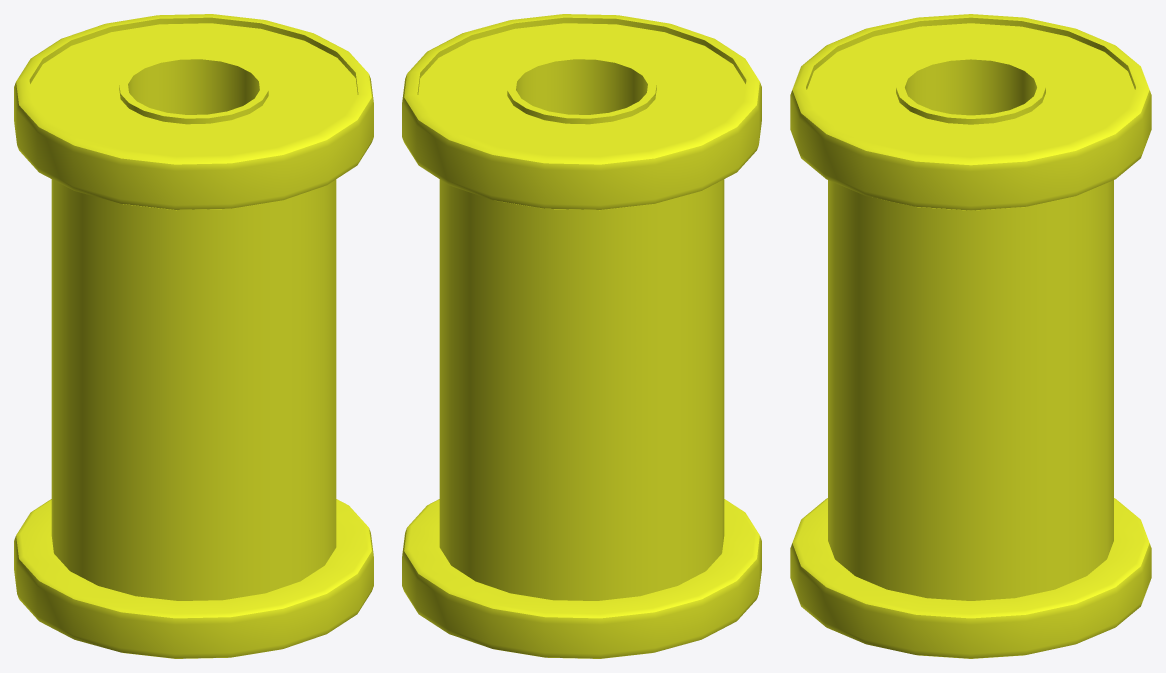
File: BobbinModel.glb
3 views of the same model, side by side, from view 1: azimuth 30°, elevation 25°; view 2: azimuth 150°, elevation 25°; view 3: azimuth 270°, elevation 25° (orthographic).
Visible parts, largest first — view 1: ito; view 2: ito; view 3: ito.
Boxes of the visible parts, bbox=[...] form: ito: bbox=[14, 14, 373, 658]; ito: bbox=[402, 14, 761, 658]; ito: bbox=[790, 14, 1151, 658].
Size of the model in its own units: 1.89 by 2.88 by 1.89.
